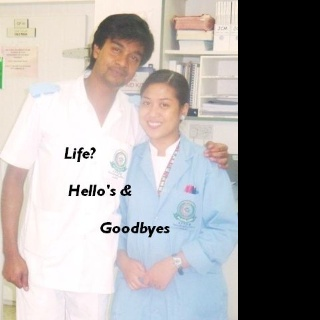without_mask: (94, 38, 144, 87), (139, 83, 182, 139)
